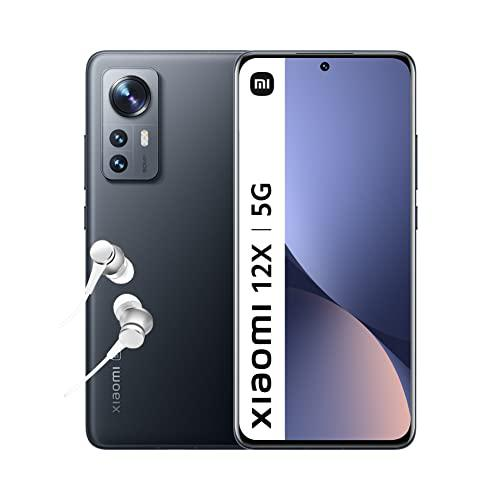Smartphone: (237, 52, 419, 448), (80, 54, 235, 432)
